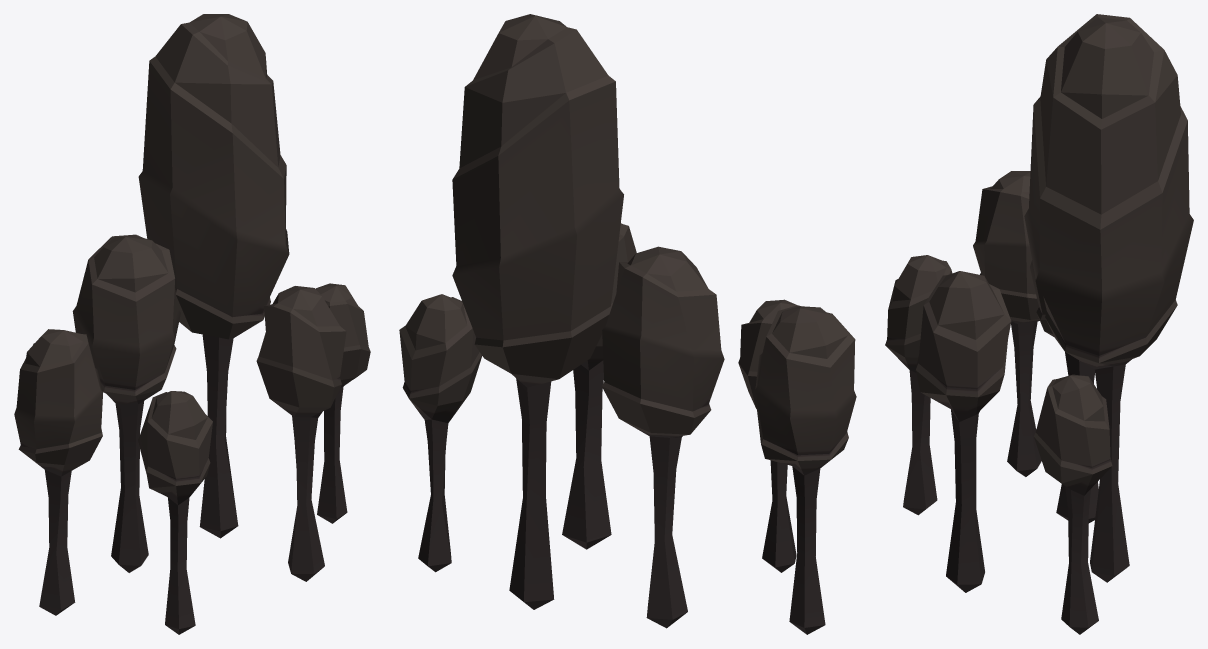
File: worlds_SM_Env_Plant_Large_Spiral_Preset_02.gltf
The picture shows the model from 3 angles, left to right: view 1: azimuth 30°, elevation 25°; view 2: azimuth 150°, elevation 25°; view 3: azimuth 270°, elevation 25°; orthographic projection. The views are drawn at different scales.
Visible parts, largest first — view 1: SM_Env_Plant_Large_Spiral_Preset_02; view 2: SM_Env_Plant_Large_Spiral_Preset_02; view 3: SM_Env_Plant_Large_Spiral_Preset_02.
Part boxes in pixels (bbox=[...]): SM_Env_Plant_Large_Spiral_Preset_02: bbox=[14, 14, 370, 634]; SM_Env_Plant_Large_Spiral_Preset_02: bbox=[399, 14, 856, 634]; SM_Env_Plant_Large_Spiral_Preset_02: bbox=[885, 14, 1193, 634].
Bounding box in the file's own units: 16.02 × 21.95 × 10.98.
1 material, 1 textured.
